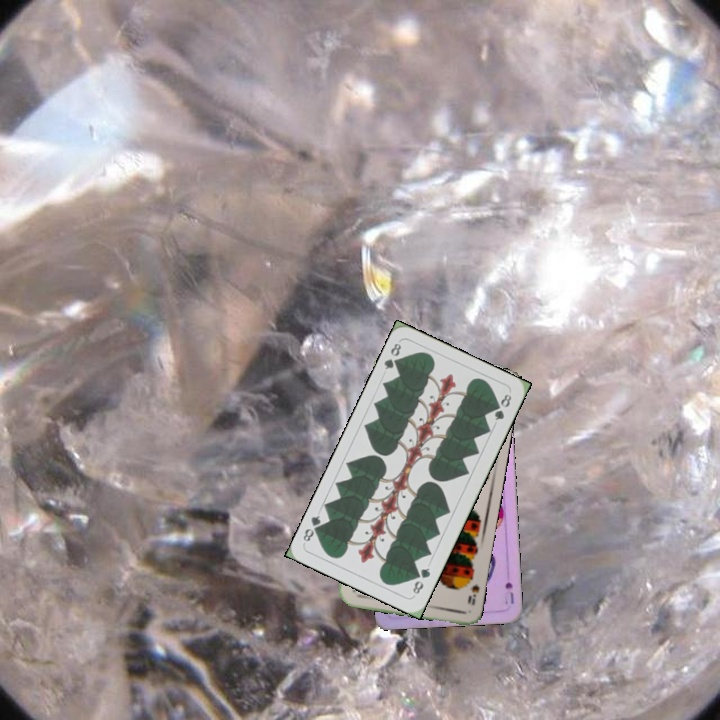G8: (409, 564, 433, 598), (380, 339, 404, 372)
S9: (462, 569, 482, 607)
SU: (500, 578, 516, 607)
